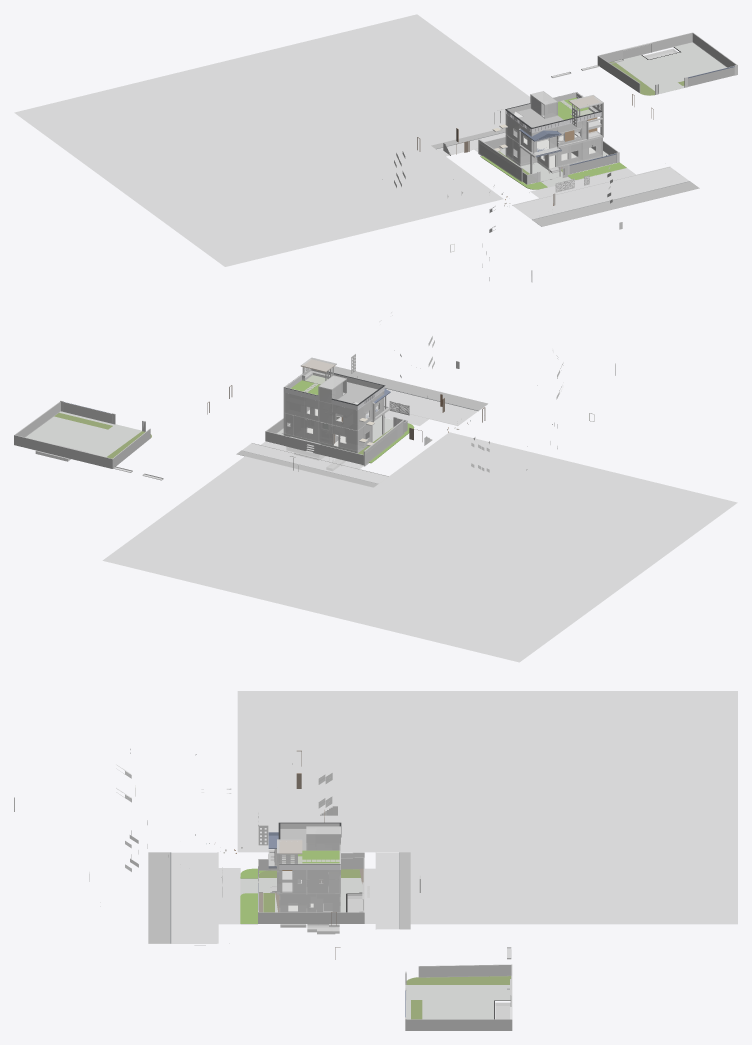
File: pune-villa-v2.glb
The picture shows the model from 3 angles, top to bottom: view 1: azimuth 30°, elevation 25°; view 2: azimuth 150°, elevation 25°; view 3: azimuth 270°, elevation 25°; orthographic projection. The views are drawn at different scales.
Parts seen in each view (by area): view 1: Node2, Node1; view 2: Node2, Node1; view 3: Node2, Node1.
Part boxes in pixels (bbox=[...]): Node2: bbox=[14, 14, 737, 282]; Node1: bbox=[417, 33, 737, 252]; Node2: bbox=[14, 311, 737, 662]; Node1: bbox=[14, 360, 594, 487]; Node2: bbox=[14, 691, 737, 1019]; Node1: bbox=[135, 750, 512, 1030].
Size of the model in its own units: 4417 by 889 by 4004.
Materials: 2 (2 with a texture image).
